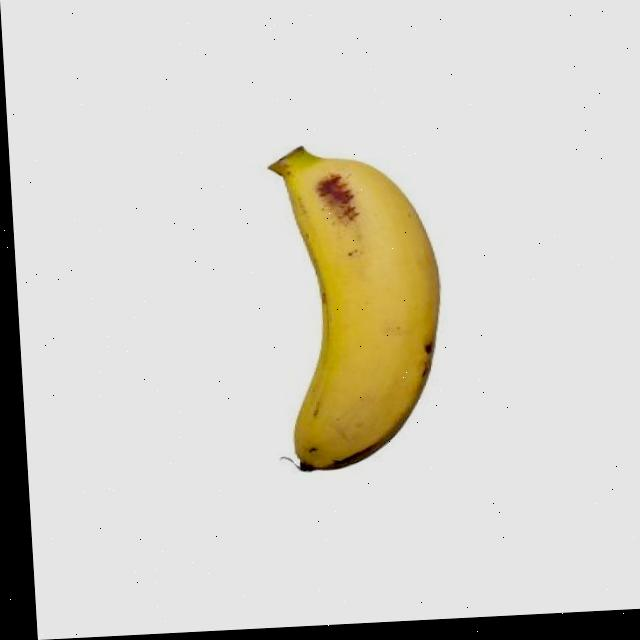banana: (259, 140, 457, 479)
